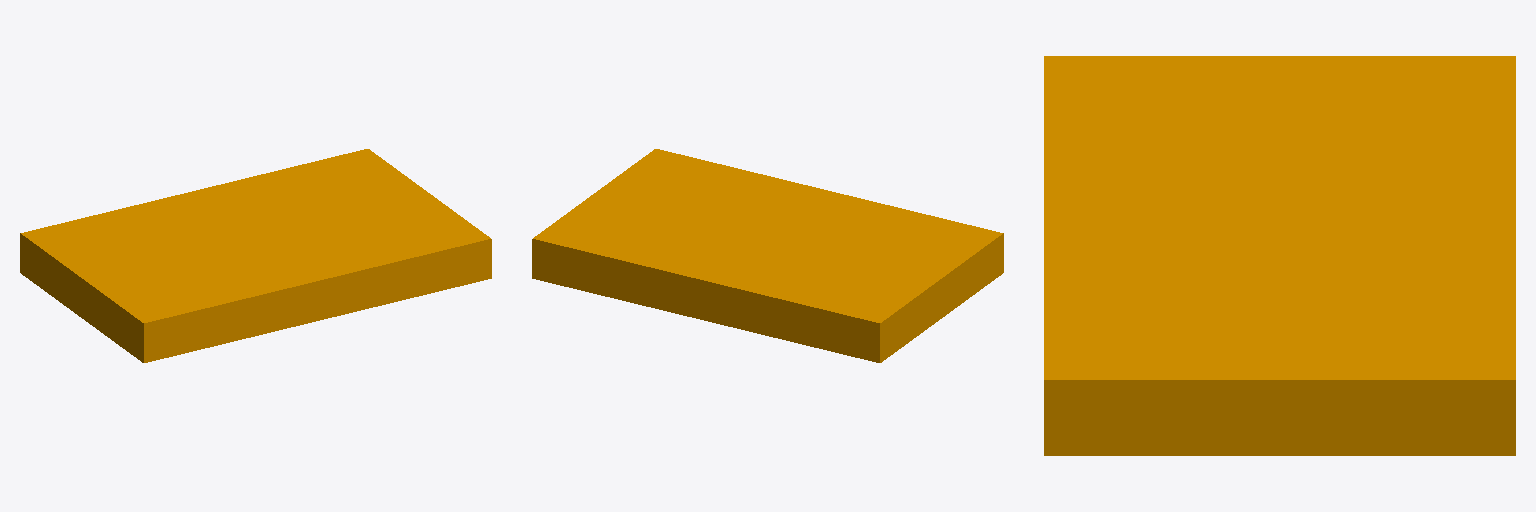
The robot description file, URDF, robot "gazebo_dock_bundle":
<robot name="gazebo_dock_bundle">
    <link name="dock_bundle_base_link">
        <inertial>
            <origin xyz="0 0 0" rpy="0 0 0"/>
            <mass value="1.0" />
            <inertia ixx="0.074166666666667" ixy="0" ixz="0" iyy="0.0585416666667" iyz="0" izz="0.026041666666667" />
        </inertial>

        <collision>
            <origin xyz="0 0 0" rpy="0 0 0"/>
            <geometry>
                <box size="0.2 0.2 0.2"/>
            </geometry>
        </collision>

        <visual>
            <origin xyz="0 0 0" rpy="0 0 0"/>
            <geometry>
                <mesh filename="package://aion_r1_gazebo/models/dock_bundle.dae"/>
            </geometry>
        </visual>
    </link>

    <gazebo reference="gazebo_dock_bundle_link">
        <kp>100000</kp>
        <kd>100000</kd>
        <mu1>0.1</mu1>
        <mu2>0.1</mu2>
        <fpdir1>1 0 0</fpdir1>
    </gazebo>
</robot>

--- What the picture shows (computed from the rendered views, not written in the file) ---
The picture shows the robot from 3 angles, left to right: view 1: azimuth 30°, elevation 25°; view 2: azimuth 150°, elevation 25°; view 3: azimuth 270°, elevation 25°; orthographic projection.
Model gazebo_dock_bundle with 1 links and 0 joints (none), rooted at dock_bundle_base_link, posed all joints at 0.
Links seen in each view (by area): view 1: dock_bundle_base_link; view 2: dock_bundle_base_link; view 3: dock_bundle_base_link.
Boxes of the visible links, bbox=[...] form: dock_bundle_base_link: bbox=[20, 149, 491, 362]; dock_bundle_base_link: bbox=[532, 149, 1003, 362]; dock_bundle_base_link: bbox=[1044, 56, 1515, 455].
Size in the robot's own frame: 0.455 by 0.2794 by 0.05 metres.
Meshes: 1 distinct files referenced, 1 mesh visuals loaded (1 Collada DAE).